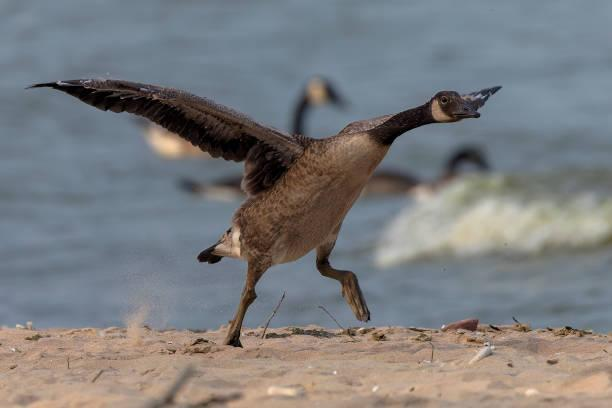Canadian-Goose: (27, 48, 508, 337)
